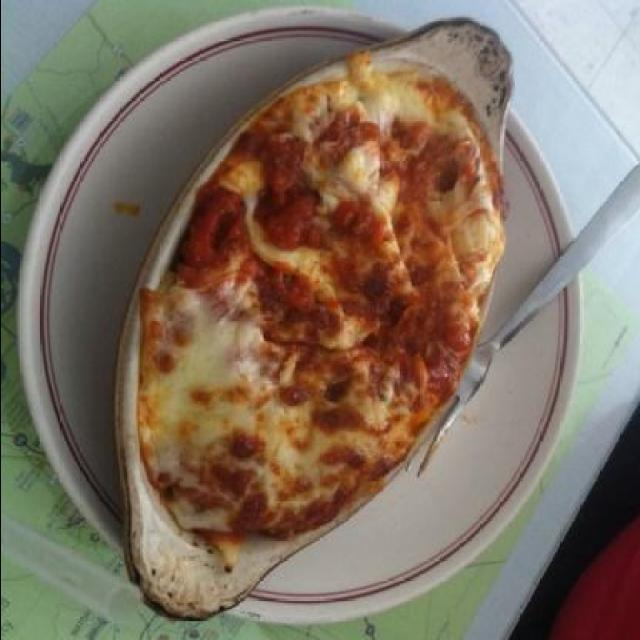Lasagna: (111, 88, 495, 536)
